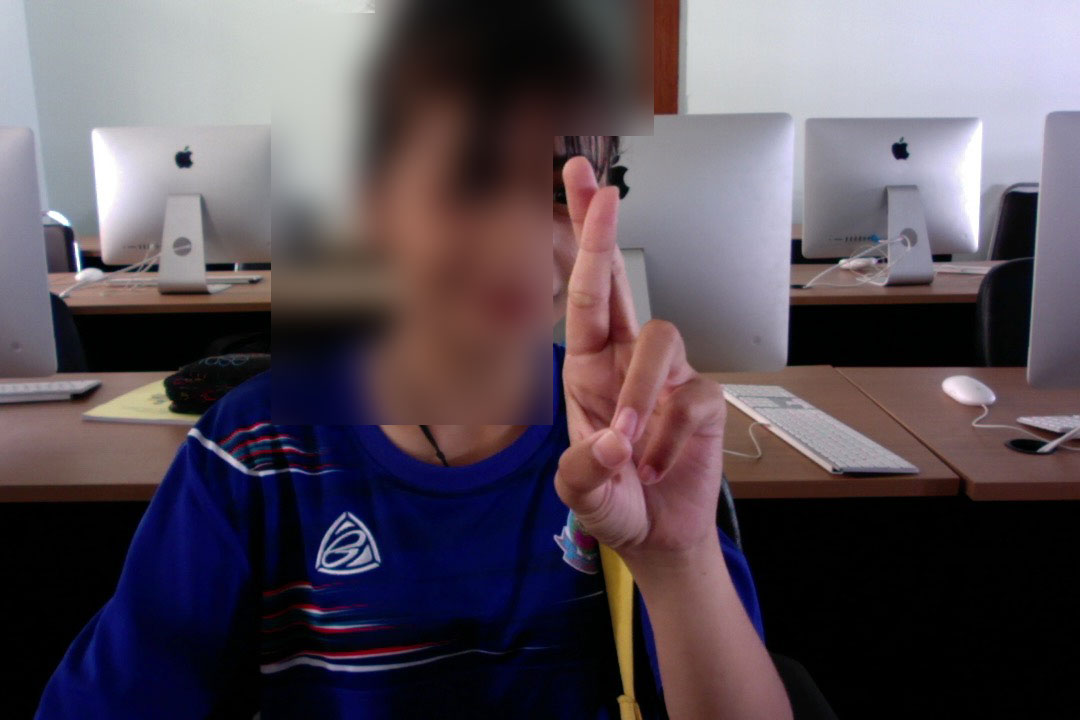rao: (530, 151, 736, 558)
